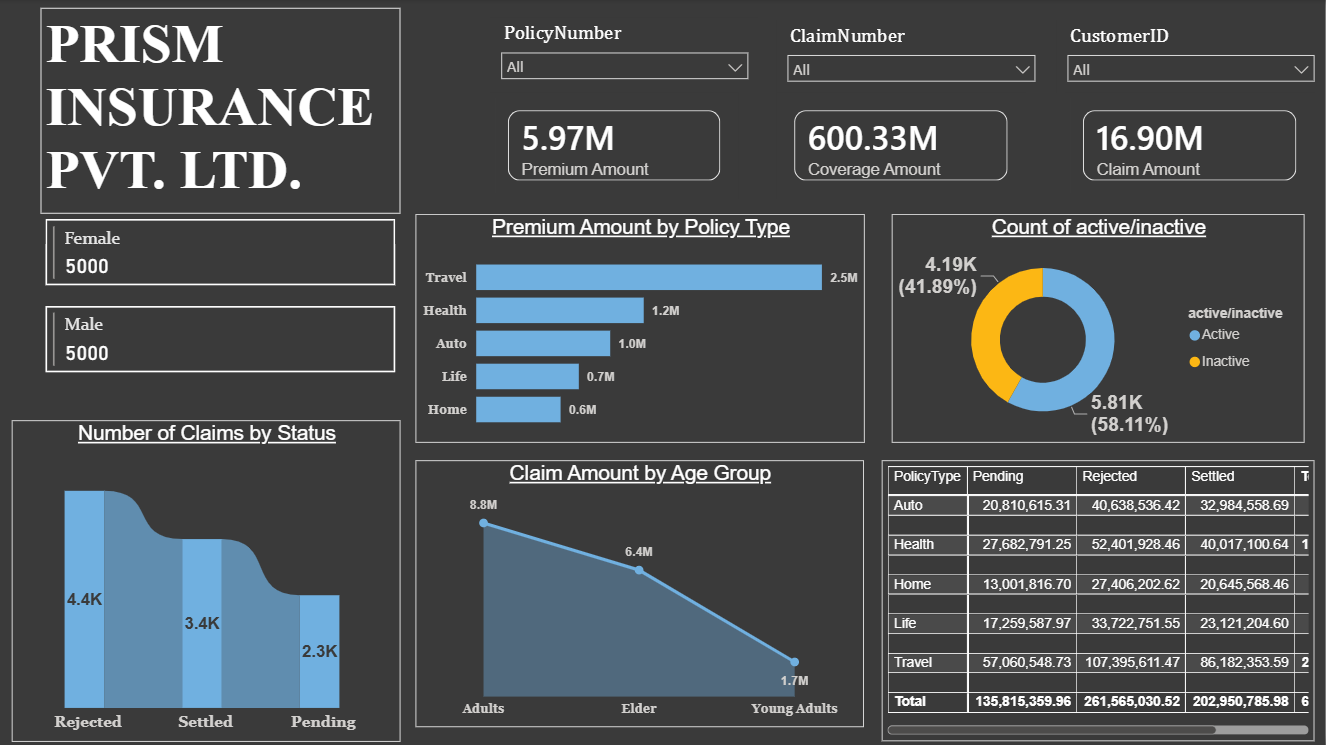

What the dashboard file says about the page in this screenshot:
{"tool":"powerbi","page":{"name":"Page 1","canvas":[1280,720],"ordinal":0},"visuals":[{"type":"slicer","fields":{"Values":["InsuranceData (3).ClaimNumber"]},"box":[751.9,20.6,259.9,69.2],"z":0},{"type":"slicer","fields":{"Values":["InsuranceData (3).CustomerID"]},"box":[1021.5,20.6,258.7,69.2],"z":1000},{"type":"slicer","fields":{"Values":["InsuranceData (3).PolicyNumber"]},"box":[474.9,18.2,258.7,71.7],"z":2000},{"type":"textbox","box":[41.2,8.2,347.2,199],"z":3000},{"type":"cardVisual","fields":{"Data":["Sum(InsuranceData (3).PremiumAmount)"]},"box":[474.9,89.9,239.3,102],"z":4000},{"type":"cardVisual","fields":{"Data":["Sum(InsuranceData (3).CoverageAmount)"]},"box":[751.9,89.9,240.5,102],"z":5000},{"type":"cardVisual","fields":{"Data":["Sum(InsuranceData (3).ClaimAmount)"]},"box":[1030,89.9,240.5,102],"z":6000},{"type":"multiRowCard","fields":{"Values":["InsuranceData (3).Gender","CountNonNull(InsuranceData (3).Gender)"]},"box":[41,207.5,347.5,199.1],"z":7000},{"type":"ribbonChart","title":"Number of Claims by Status","fields":{"Category":["InsuranceData (3).ClaimStatus"],"Y":["CountNonNull(InsuranceData (3).ClaimStatus)"]},"box":[13.4,406.9,375.3,312.2],"z":8000},{"type":"barChart","fields":{"Category":["InsuranceData (3).PolicyType"],"Y":["Sum(InsuranceData (3).PremiumAmount)"]},"box":[403.3,207.7,433.6,221.1],"z":9000},{"type":"lineChart","fields":{"Category":["InsuranceData (3).Age Group"],"Y":["Sum(InsuranceData (3).ClaimAmount)"]},"box":[403.3,445.8,432.4,257.5],"z":10000},{"type":"donutChart","title":"Count of active/inactive ","fields":{"Category":["InsuranceData (3).active/inactive"],"Y":["CountNonNull(InsuranceData (3).active/inactive)"]},"box":[862.4,207.7,398.4,221.1],"z":11000},{"type":"pivotTable","fields":{"Rows":["InsuranceData (3).PolicyType"],"Values":["Sum(InsuranceData (3).CoverageAmount)"],"Columns":["InsuranceData (3).ClaimStatus"]},"box":[852.7,445.8,417.8,270.9],"z":12000}]}

Visuals, with their boxes in screenshot pixels (x1, y1, x2, y2), scaled from the page's 1280x720 canvas onto the 1326x745 screenshot:
slicer - InsuranceData (3).ClaimNumber: {"x1": 779, "y1": 21, "x2": 1048, "y2": 93}
slicer - InsuranceData (3).CustomerID: {"x1": 1058, "y1": 21, "x2": 1325, "y2": 93}
slicer - InsuranceData (3).PolicyNumber: {"x1": 492, "y1": 19, "x2": 760, "y2": 93}
textbox: {"x1": 43, "y1": 8, "x2": 402, "y2": 214}
cardVisual - Sum(InsuranceData (3).PremiumAmount): {"x1": 492, "y1": 93, "x2": 740, "y2": 199}
cardVisual - Sum(InsuranceData (3).CoverageAmount): {"x1": 779, "y1": 93, "x2": 1028, "y2": 199}
cardVisual - Sum(InsuranceData (3).ClaimAmount): {"x1": 1067, "y1": 93, "x2": 1316, "y2": 199}
multiRowCard - InsuranceData (3).Gender x CountNonNull(InsuranceData (3).Gender): {"x1": 42, "y1": 215, "x2": 402, "y2": 421}
"Number of Claims by Status" ribbonChart: {"x1": 14, "y1": 421, "x2": 403, "y2": 744}
barChart - InsuranceData (3).PolicyType x Sum(InsuranceData (3).PremiumAmount): {"x1": 418, "y1": 215, "x2": 867, "y2": 444}
lineChart - InsuranceData (3).Age Group x Sum(InsuranceData (3).ClaimAmount): {"x1": 418, "y1": 461, "x2": 866, "y2": 728}
"Count of active/inactive " donutChart: {"x1": 893, "y1": 215, "x2": 1306, "y2": 444}
pivotTable - InsuranceData (3).PolicyType x Sum(InsuranceData (3).CoverageAmount): {"x1": 883, "y1": 461, "x2": 1316, "y2": 742}
